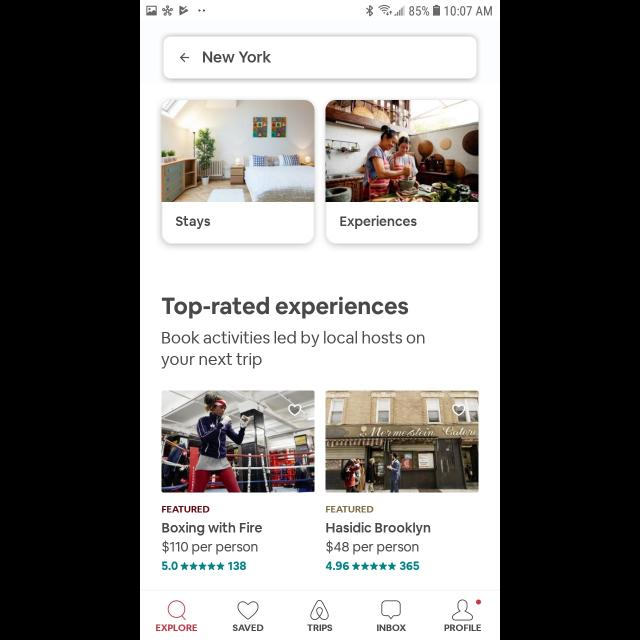icon: (452, 600, 473, 620), (381, 600, 401, 620), (238, 600, 258, 620), (168, 600, 186, 620), (181, 562, 225, 570), (352, 562, 396, 570), (288, 404, 302, 416), (453, 404, 465, 416), (180, 54, 190, 62)
image: (162, 391, 314, 493), (326, 391, 478, 493), (326, 100, 478, 202), (162, 101, 314, 203), (310, 600, 330, 620)
input: (164, 37, 476, 79)
text: (162, 331, 424, 369), (162, 297, 408, 319), (162, 540, 258, 556), (326, 540, 418, 556), (326, 522, 430, 536), (162, 522, 262, 536), (339, 215, 416, 229), (204, 51, 272, 63), (176, 217, 210, 230), (156, 624, 198, 632), (444, 624, 482, 632), (162, 506, 210, 512), (326, 506, 374, 512), (232, 624, 264, 632), (378, 624, 407, 632), (307, 624, 333, 632), (326, 562, 349, 570), (400, 562, 420, 570), (228, 562, 246, 570), (162, 562, 178, 570)
uppertaskbar: (140, 1, 500, 17)
